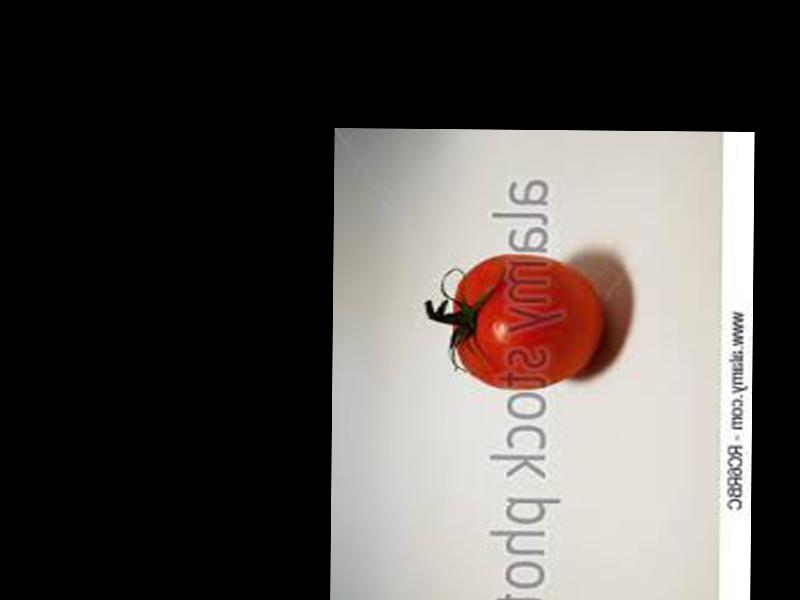Tomato: (450, 253, 602, 391)
